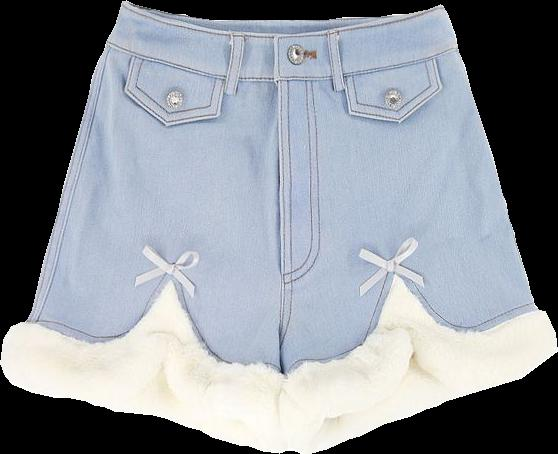Hemline: (279, 344, 557, 451), (0, 361, 285, 453)
Pantleg: (1, 0, 284, 451), (276, 4, 557, 453)
Waistline: (281, 265, 539, 372), (24, 269, 284, 370), (103, 42, 460, 84), (122, 0, 444, 37)
